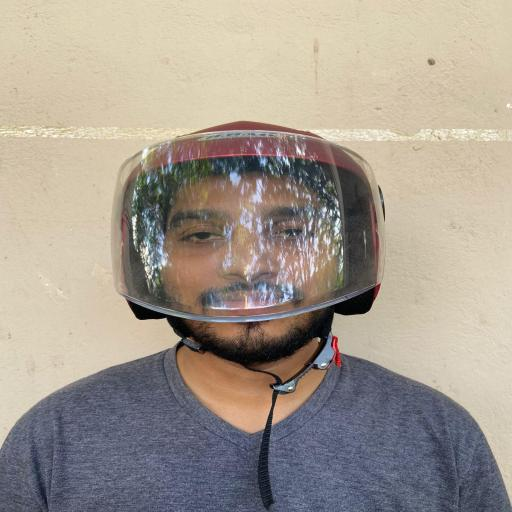with helmet: (108, 120, 386, 320)
